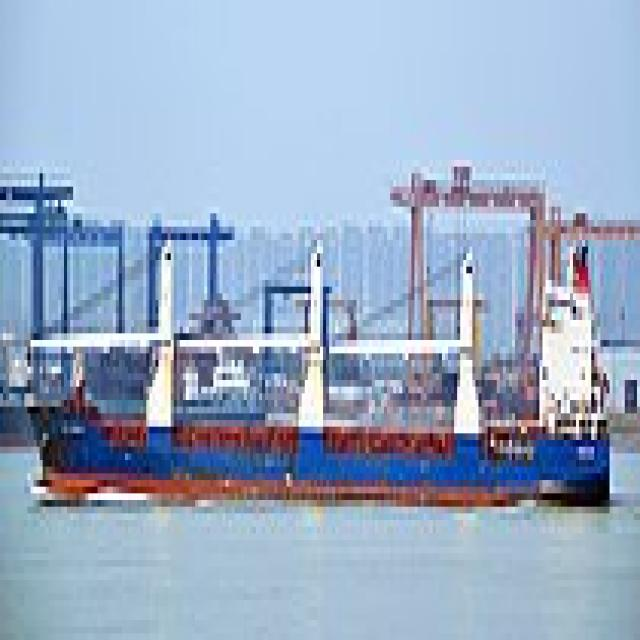Cargo: (22, 227, 610, 500)
